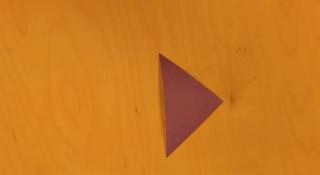Triangle: (159, 53, 224, 159)
